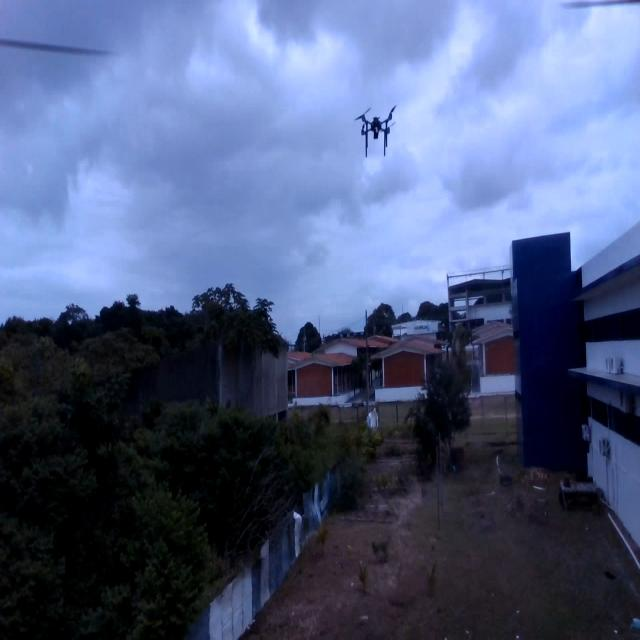-uav-: (350, 93, 404, 169)
